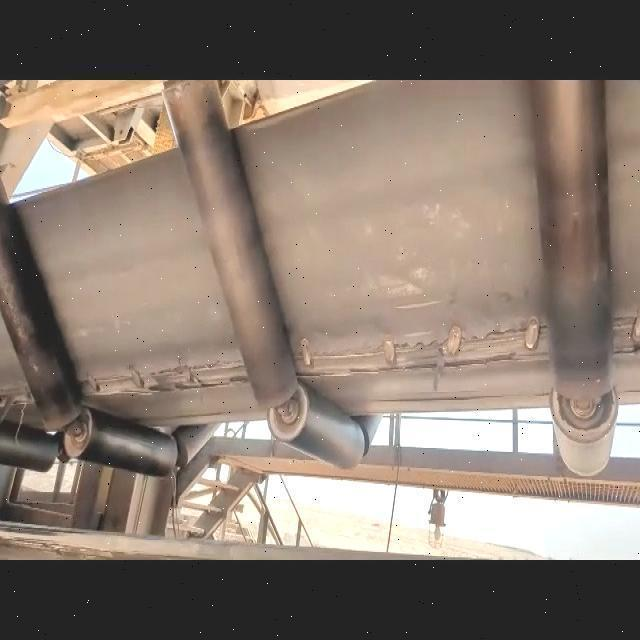Tear: (290, 318, 548, 384), (72, 352, 254, 408), (601, 316, 640, 365)
